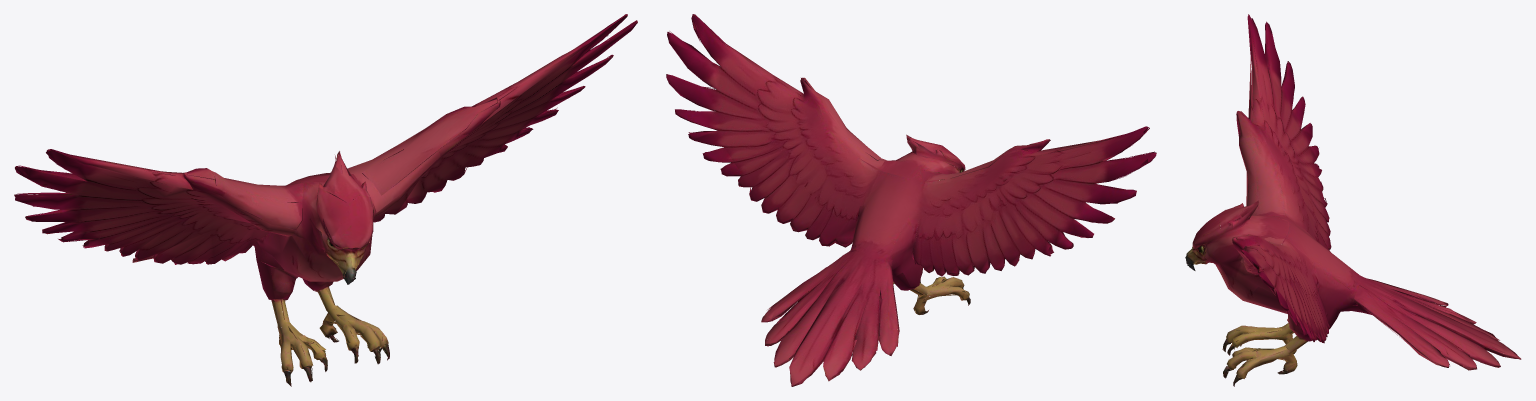
The model's file is pip.glb.
3 renders of one model, left to right at view 1: azimuth 30°, elevation 25°; view 2: azimuth 150°, elevation 25°; view 3: azimuth 270°, elevation 25°, orthographic. The views are drawn at different scales.
Parts seen in each view (by area): view 1: pip_body, pip_feathers_R, pip_feathers_L; view 2: pip_body, pip_feathers_L, pip_feathers_R; view 3: pip_body, pip_feathers_R, pip_feathers_L.
Part boxes in pixels (x1,y1,x2,y2): pip_body: (132, 145, 439, 386); pip_feathers_R: (14, 149, 269, 264); pip_feathers_L: (353, 14, 637, 222); pip_body: (761, 129, 998, 386); pip_feathers_L: (666, 14, 859, 240); pip_feathers_R: (919, 126, 1156, 275); pip_body: (1185, 160, 1521, 386); pip_feathers_R: (1236, 14, 1331, 251); pip_feathers_L: (1232, 234, 1328, 343).
Bounding box in the file's own units: 0.9481 × 0.4244 × 0.5376.
1 material, 1 textured.
